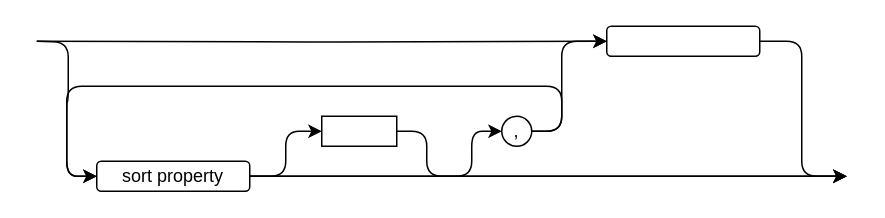
The diagram is 885 pixels wide and 218 high, and some of its shapes have lost their labels. The centre of each missing label's shape, as x and y in pixels:
desc: pixel 358 130
result limit: pixel 682 40
